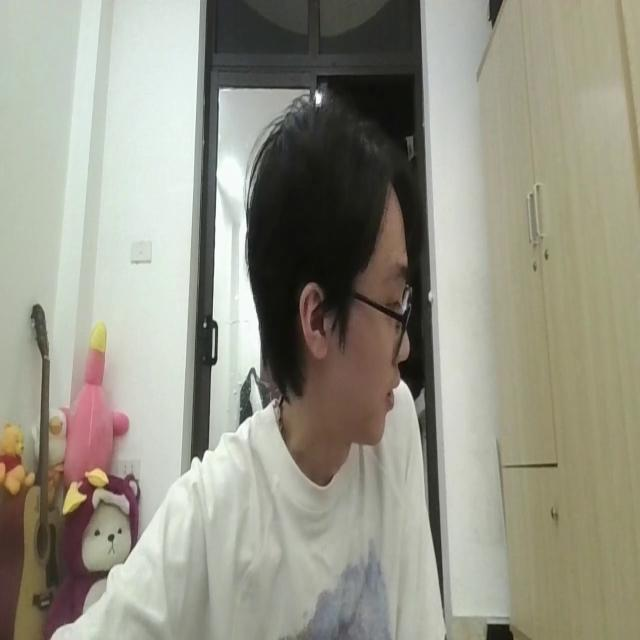student: (69, 86, 437, 640)
